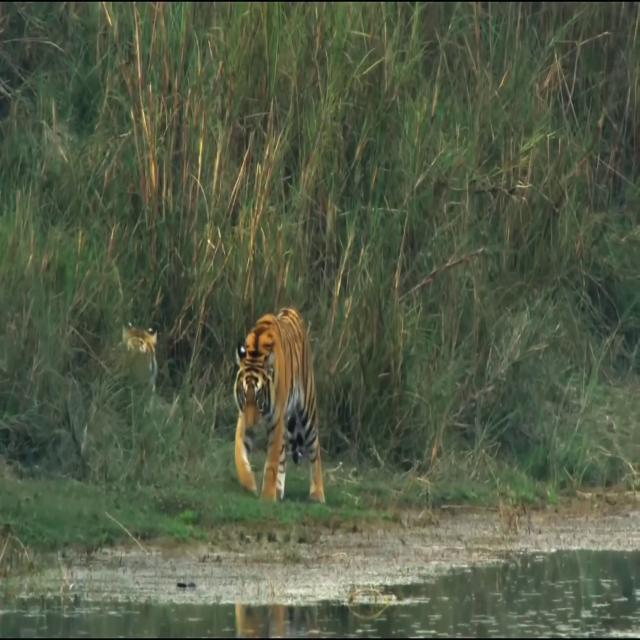tiger: (232, 308, 326, 505)
